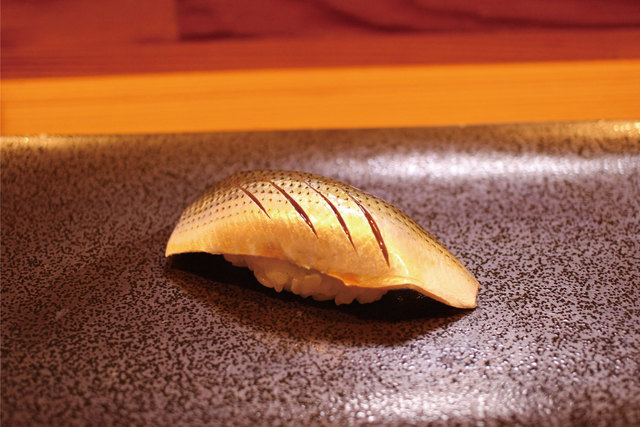spotted-shad: (164, 168, 485, 321)
